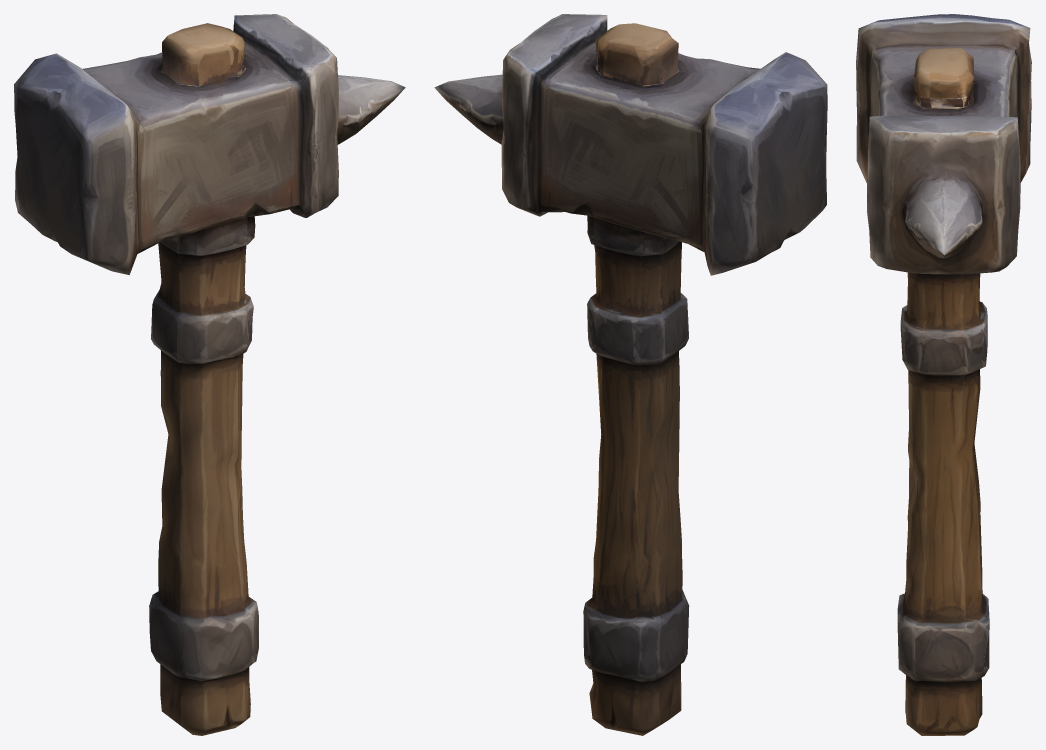
File: Prop_Weapon_WarHammer.fbx
3 views of the same model, side by side, from view 1: azimuth 30°, elevation 25°; view 2: azimuth 150°, elevation 25°; view 3: azimuth 270°, elevation 25° (orthographic). The views are drawn at different scales.
Parts seen in each view (by area): view 1: texture_mapping; view 2: texture_mapping; view 3: texture_mapping.
Part boxes in pixels (box(x1,y1,x2,y2)): texture_mapping: box(14, 14, 405, 735); texture_mapping: box(434, 14, 827, 735); texture_mapping: box(856, 14, 1031, 735).
Bounding box in the file's own units: 0.5449 × 0.2402 × 1.
Materials: 1 (1 with a texture image).
